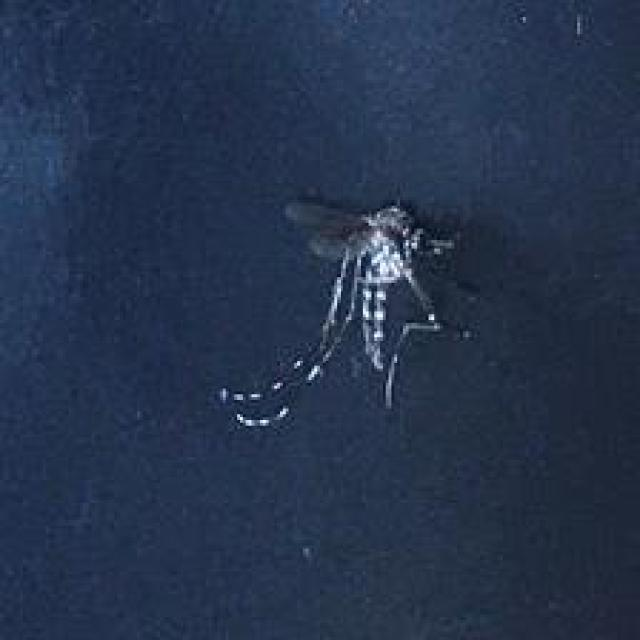Aedes albopictus: (214, 192, 480, 432)
